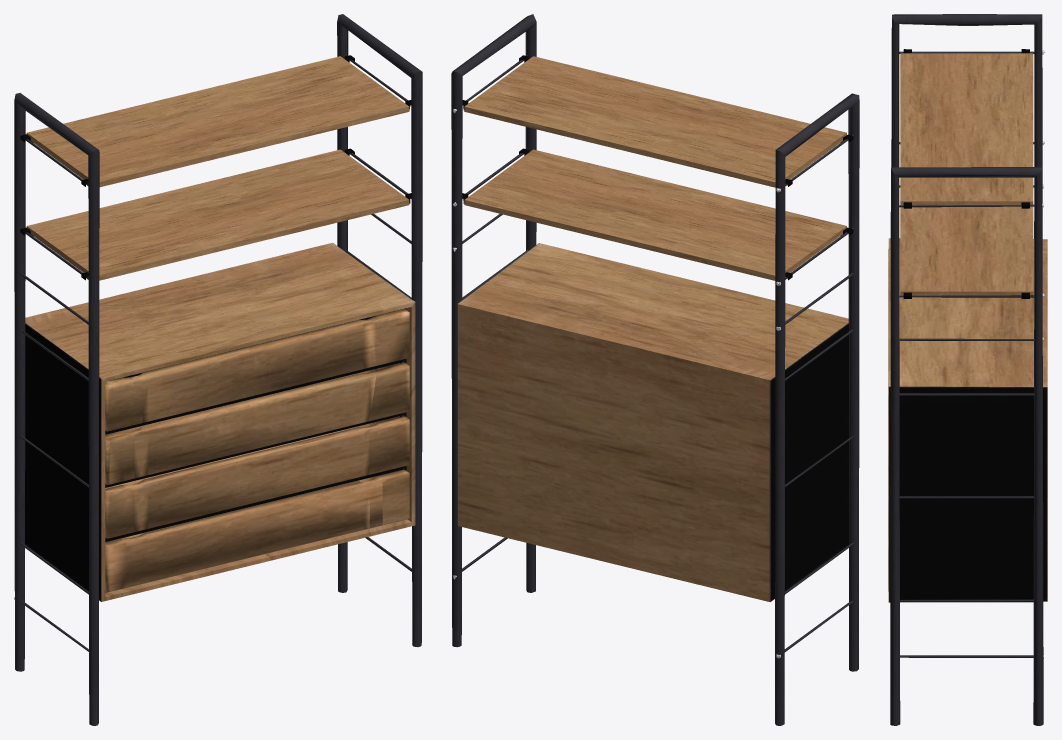
The model's file is drawer_cabinet.glb.
3 views of the same model, side by side, from view 1: azimuth 30°, elevation 25°; view 2: azimuth 150°, elevation 25°; view 3: azimuth 270°, elevation 25° (orthographic). The views are drawn at different scales.
Parts seen in each view (by area): view 1: drawer_cabinet; view 2: drawer_cabinet; view 3: drawer_cabinet.
Part boxes in pixels (x1=…): drawer_cabinet: x1=14, y1=14, x2=422, y2=725; drawer_cabinet: x1=451, y1=14, x2=859, y2=725; drawer_cabinet: x1=888, y1=14, x2=1047, y2=725.
Bounding box in the file's own units: 1.14 × 1.88 × 0.4881.
Materials: 1 (1 with a texture image).
